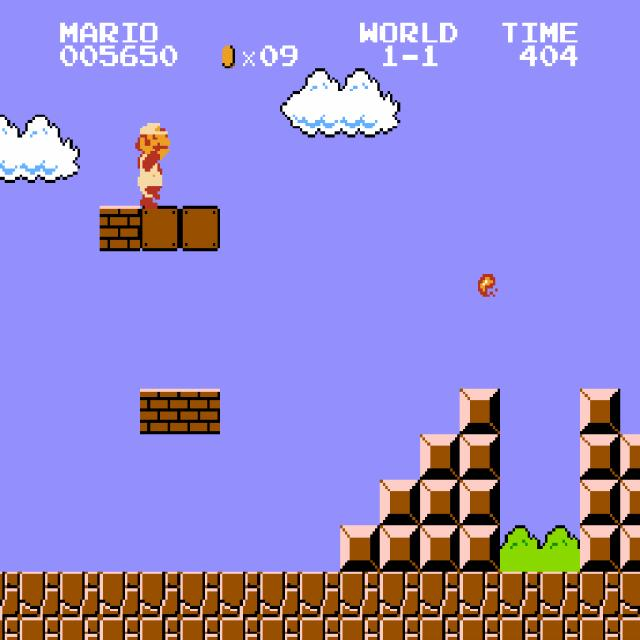brick_block: (100, 206, 140, 251), (140, 389, 180, 434), (180, 389, 220, 434)
empty_block: (140, 206, 180, 251), (180, 206, 220, 251)
fire_mario: (127, 114, 170, 208)
fireball: (150, 125, 170, 152), (478, 272, 498, 298)
hard_block: (380, 480, 420, 526), (420, 434, 460, 480), (420, 480, 460, 526), (460, 434, 500, 480), (460, 480, 500, 526), (580, 434, 620, 480), (580, 480, 620, 526), (340, 526, 380, 571), (380, 526, 420, 571), (420, 526, 460, 571), (460, 389, 500, 434), (460, 526, 500, 571), (580, 389, 620, 434), (580, 526, 620, 571), (620, 434, 640, 480), (620, 480, 640, 526), (620, 526, 640, 571)
undestructible_block: (20, 572, 60, 617), (60, 572, 100, 617), (100, 572, 140, 617), (140, 572, 180, 617), (180, 572, 220, 617), (220, 572, 260, 617), (260, 572, 300, 617), (300, 572, 340, 617), (340, 572, 380, 617), (380, 572, 420, 617), (420, 572, 460, 617), (460, 572, 500, 617), (500, 572, 540, 617), (540, 572, 580, 617), (580, 572, 620, 617), (20, 617, 60, 640), (60, 617, 100, 640), (100, 617, 140, 640), (140, 617, 180, 640), (180, 617, 220, 640), (220, 617, 260, 640), (260, 617, 300, 640), (300, 617, 340, 640), (340, 617, 380, 640), (380, 617, 420, 640), (420, 617, 460, 640), (460, 617, 500, 640), (500, 617, 540, 640), (540, 617, 580, 640), (580, 617, 620, 640), (0, 572, 20, 617), (620, 572, 640, 617), (0, 617, 20, 640), (620, 617, 640, 640)
